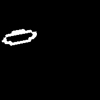chain: (2, 29, 36, 44)
